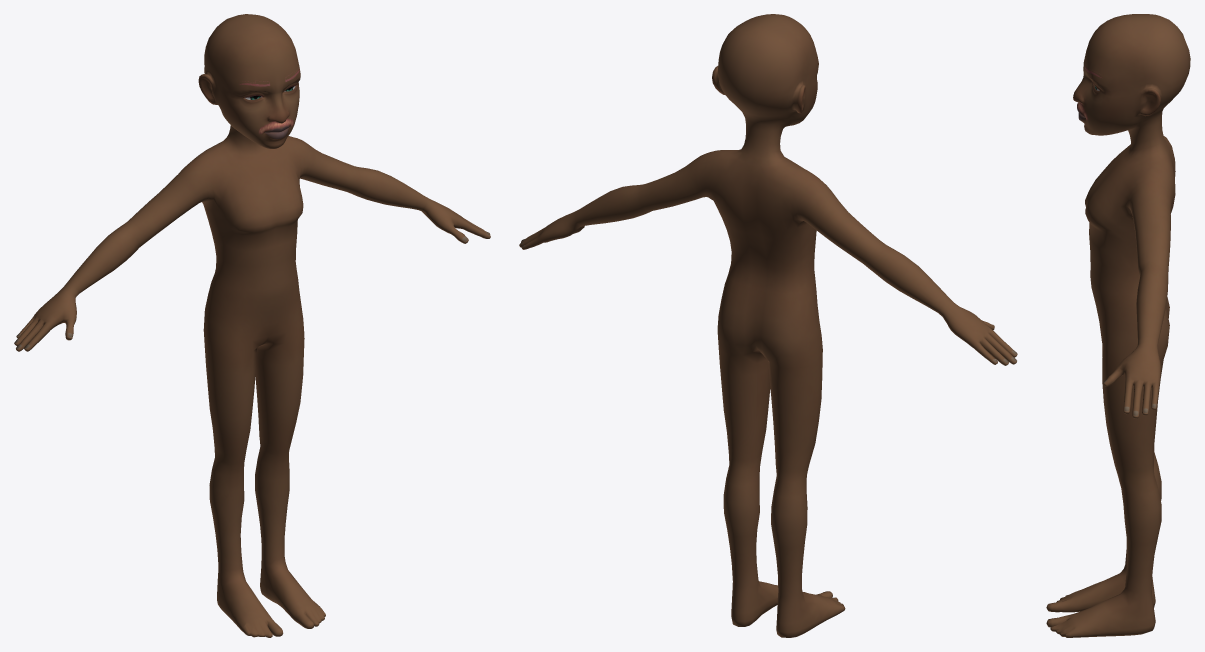
File: frame_0012.glb
3 renders of one model, left to right at view 1: azimuth 30°, elevation 25°; view 2: azimuth 150°, elevation 25°; view 3: azimuth 270°, elevation 25°, orthographic. The views are drawn at different scales.
Visible parts, largest first — view 1: frame_0012_head_geo; view 2: frame_0012_head_geo; view 3: frame_0012_head_geo.
Boxes of the visible parts, x1,y1,x2,y2 form: frame_0012_head_geo: (14, 14, 490, 637); frame_0012_head_geo: (519, 14, 1017, 637); frame_0012_head_geo: (1046, 14, 1190, 637).
Size of the model in its own units: 1.28 by 1.5 by 0.3253.
Materials: 3 (3 with a texture image).
